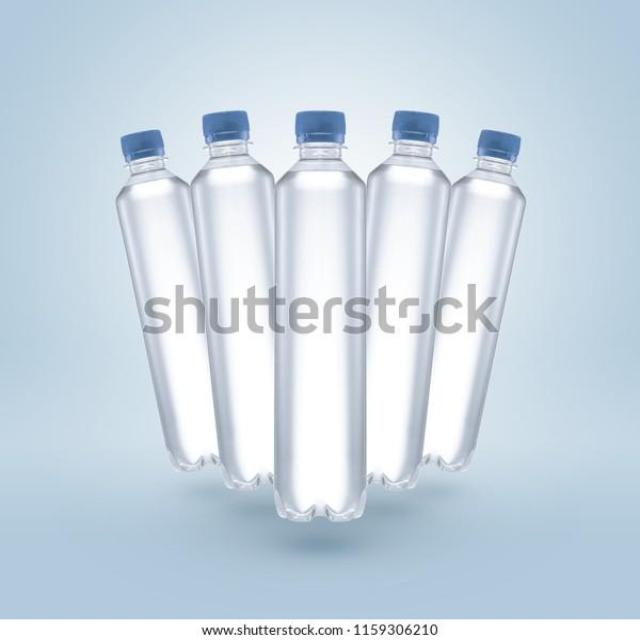bottle: (268, 108, 372, 525), (105, 124, 219, 476), (419, 129, 526, 474), (369, 111, 459, 506), (193, 106, 278, 490)
